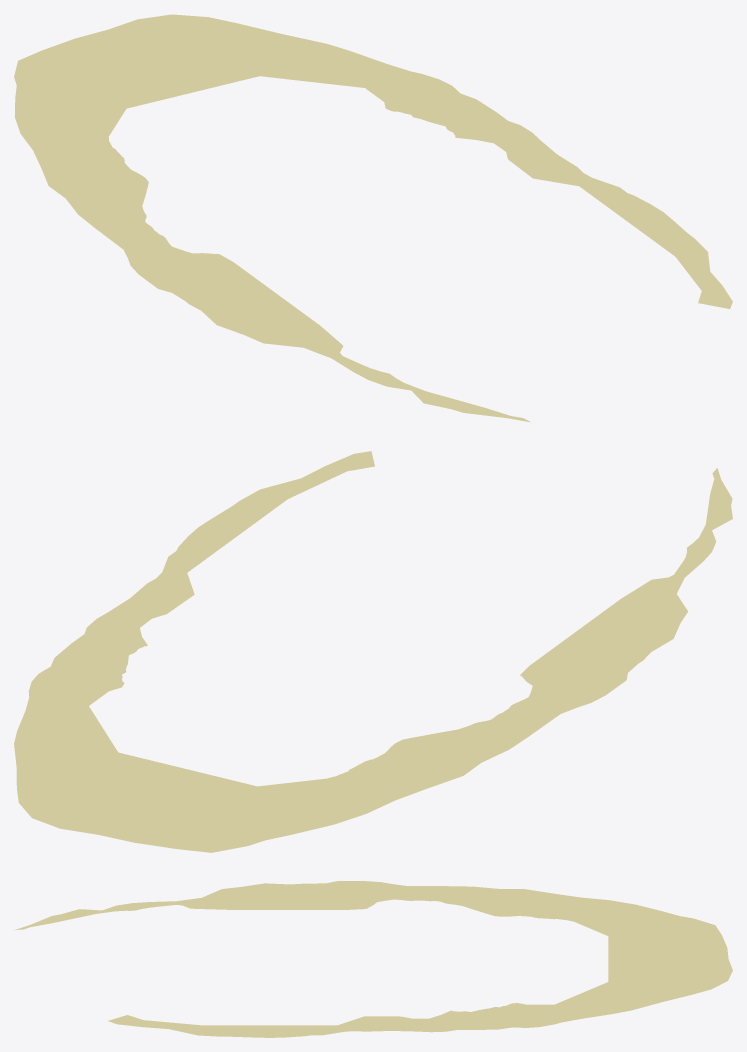
File: Mesh_Home_BH_Sand.fbx
3 views of the same model, one above another, from view 1: azimuth 30°, elevation 25°; view 2: azimuth 150°, elevation 25°; view 3: azimuth 270°, elevation 25° (orthographic). The views are drawn at different scales.
Parts seen in each view (by area): view 1: Mesh_Home_BH_Sand; view 2: Mesh_Home_BH_Sand; view 3: Mesh_Home_BH_Sand.
Boxes of the visible parts, <box> form: Mesh_Home_BH_Sand: <box>14,14,732,422</box>; Mesh_Home_BH_Sand: <box>14,451,732,852</box>; Mesh_Home_BH_Sand: <box>14,881,732,1037</box>.
Bounding box in the file's own units: 3864 × 1.19e-07 × 7479.
1 material, 1 textured.
